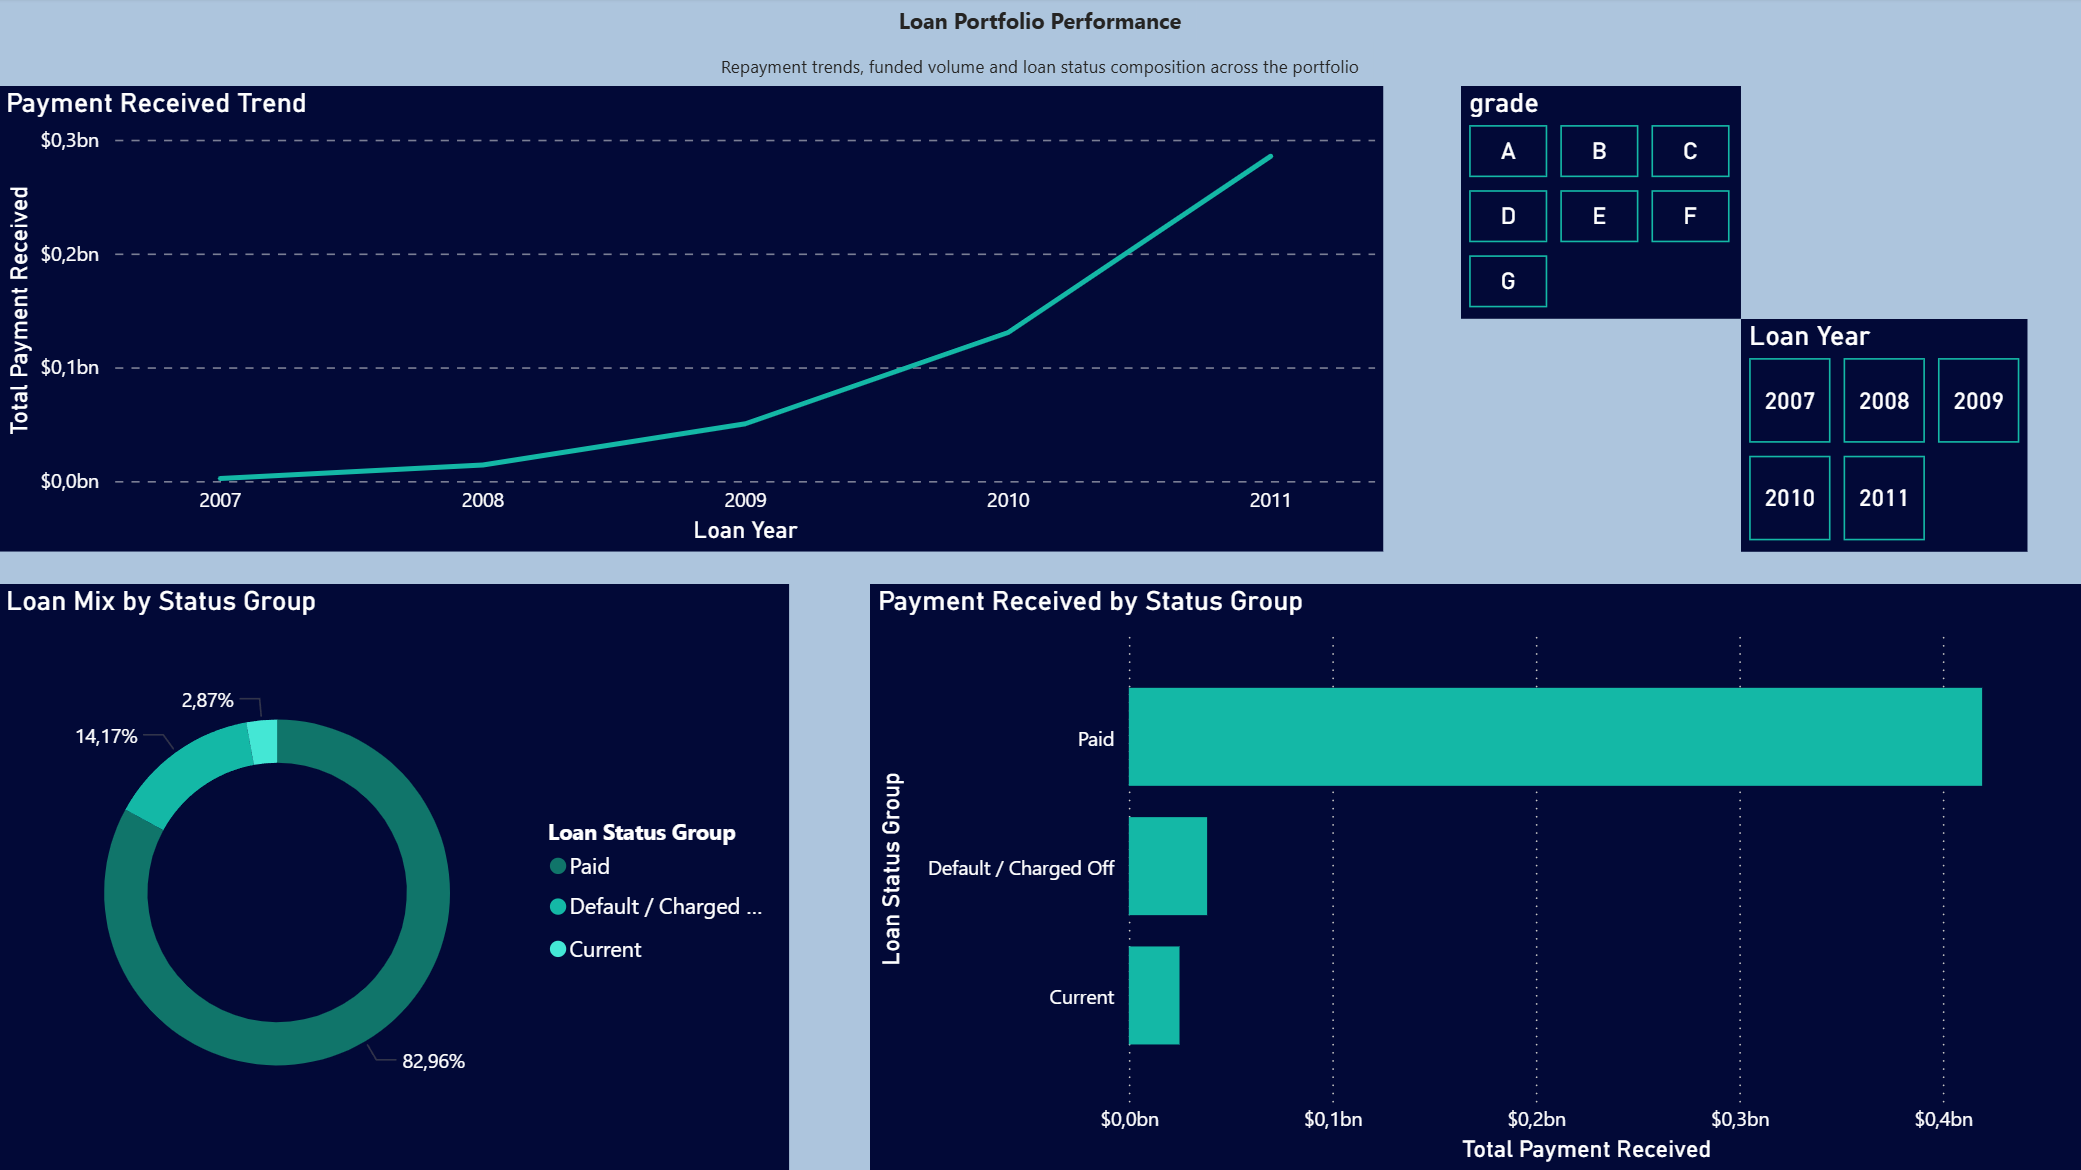

Layout of this report page (visuals, bound fields, positions):
{"tool":"powerbi","page":{"name":"Portfolio Performance","canvas":[1280,720],"ordinal":2},"visuals":[{"type":"textbox","box":[544.3,0,191.7,27],"z":0},{"type":"textbox","box":[434.9,27,410.4,27],"z":1000},{"type":"lineChart","title":"Payment Received Trend","fields":{"Category":["Loans.Loan Year"],"Y":["Loans.Total Payment Received"]},"box":[0,54.1,851.5,285.7],"z":2000},{"type":"donutChart","title":"Loan Mix by Status Group","fields":{"Y":["Loans.Total Loans"],"Category":["Loans.Loan Status Group"]},"box":[0,360,485.9,360],"z":3000},{"type":"clusteredBarChart","title":"Payment Received by Status Group","fields":{"Y":["Loans.Total Payment Received"],"Category":["Loans.Loan Status Group"]},"box":[535.7,360,744.6,360],"z":4000},{"type":"advancedSlicerVisual","fields":{"Values":["Loans.Loan Year"]},"box":[1070.8,197.2,176.3,142.5],"z":5000},{"type":"advancedSlicerVisual","fields":{"Values":["Loans.grade"]},"box":[898.8,54.1,172,143.1],"z":6000}]}

Visuals, with their boxes in screenshot pixels (x1, y1, x2, y2), scaled from the page's 1280x720 canvas onto the 2081x1170 screenshot:
textbox: bbox=(885, 0, 1197, 44)
textbox: bbox=(707, 44, 1374, 88)
"Payment Received Trend" lineChart: bbox=(0, 88, 1384, 552)
"Loan Mix by Status Group" donutChart: bbox=(0, 585, 790, 1169)
"Payment Received by Status Group" clusteredBarChart: bbox=(871, 585, 2080, 1169)
advancedSlicerVisual - Loans.Loan Year: bbox=(1741, 320, 2028, 552)
advancedSlicerVisual - Loans.grade: bbox=(1461, 88, 1741, 320)
